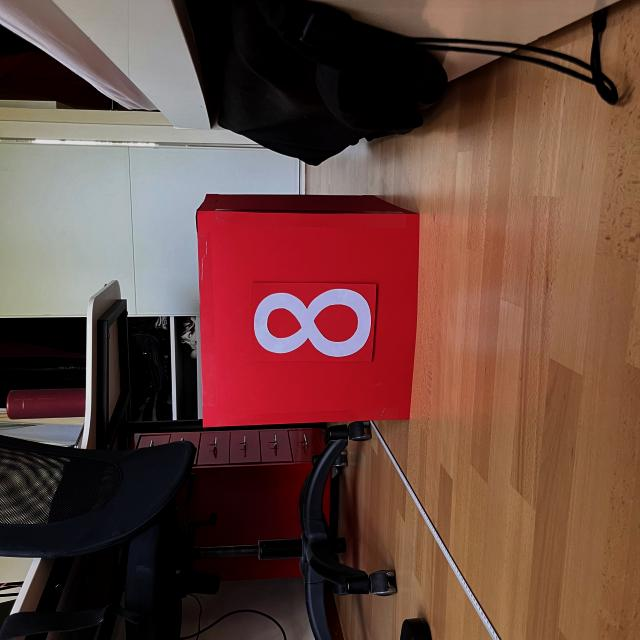box: (191, 189, 423, 428)
